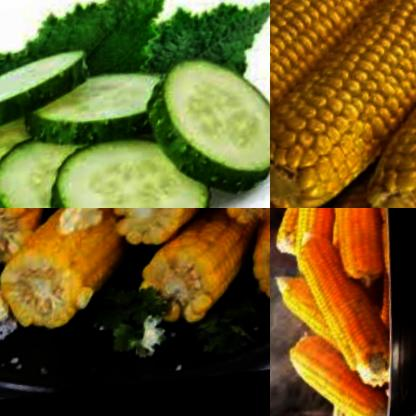corn: (270, 0, 416, 208), (270, 0, 416, 180), (286, 220, 392, 399), (130, 217, 259, 338), (0, 208, 117, 338), (363, 0, 416, 208), (281, 333, 389, 416), (270, 269, 340, 358), (321, 208, 385, 293), (270, 208, 367, 262), (270, 148, 347, 208), (106, 208, 211, 251), (298, 208, 341, 274), (253, 208, 270, 333)
cucumber: (0, 30, 270, 208)
